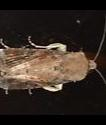army worm adult: (1, 15, 106, 109)
